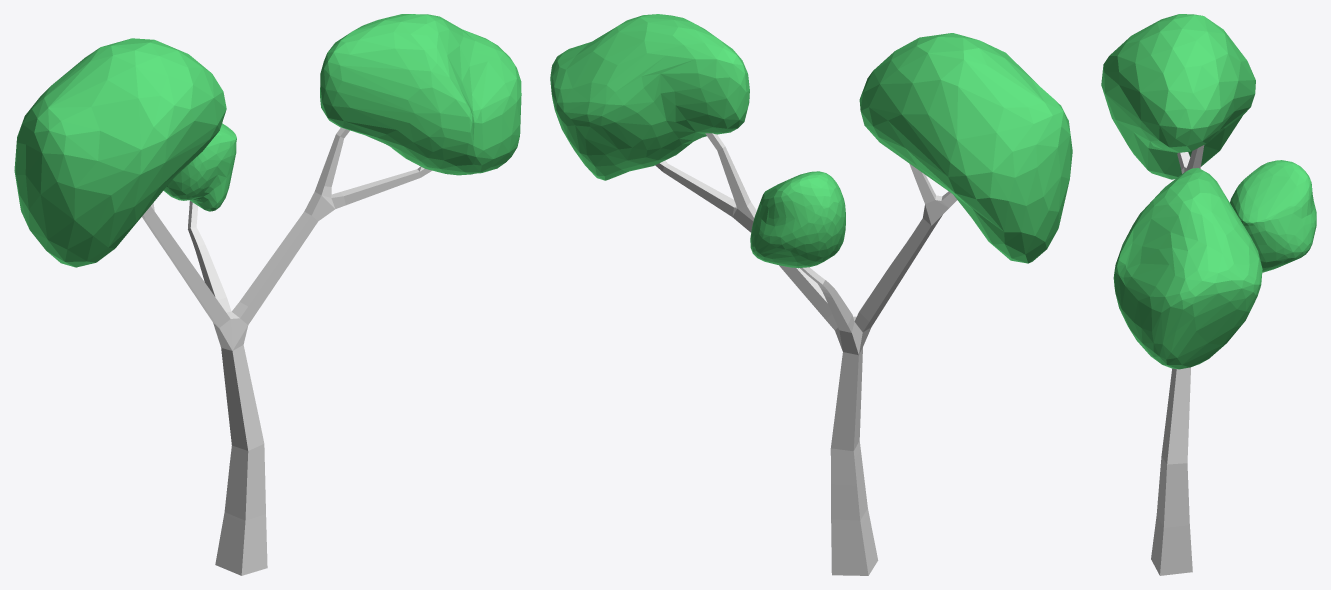
The model's file is lowtree5 (2).fbx.
The picture shows the model from 3 angles, left to right: view 1: azimuth 30°, elevation 25°; view 2: azimuth 150°, elevation 25°; view 3: azimuth 270°, elevation 25°; orthographic projection. The views are drawn at different scales.
Parts seen in each view (by area): view 1: Vert.004; view 2: Vert.004; view 3: Vert.004.
Part boxes in pixels (x1,y1,x2,y2): Vert.004: [14, 14, 521, 575]; Vert.004: [550, 14, 1072, 575]; Vert.004: [1101, 14, 1316, 575].
Size of the model in its own units: 103 by 109 by 42.52.
